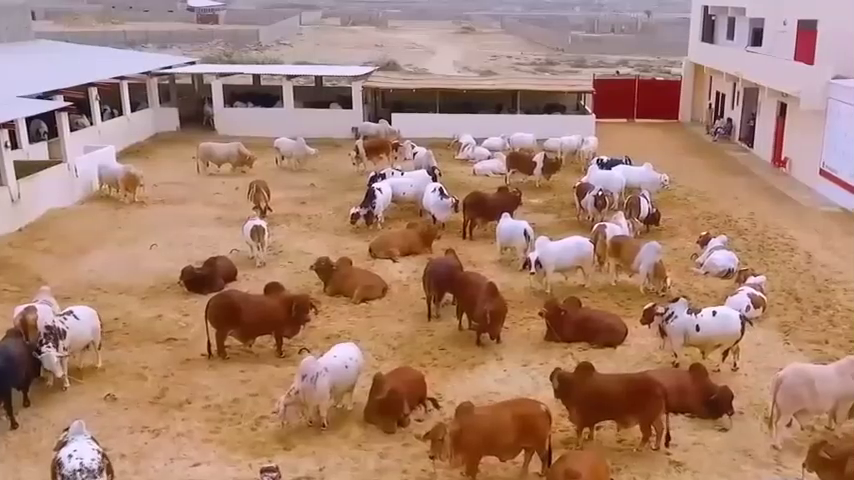bo: (412, 385, 558, 479), (537, 353, 672, 447), (269, 336, 363, 439), (199, 283, 318, 356), (765, 345, 852, 442), (640, 291, 745, 362), (447, 261, 522, 355), (35, 306, 114, 389), (648, 355, 735, 427), (539, 292, 635, 357), (363, 352, 428, 445), (595, 224, 672, 300), (517, 227, 597, 297), (310, 250, 401, 307), (3, 315, 44, 436), (47, 421, 130, 480), (380, 152, 446, 213), (457, 175, 519, 239), (530, 436, 619, 480), (171, 246, 241, 301), (343, 170, 396, 238), (422, 236, 462, 322), (13, 272, 64, 339), (500, 142, 567, 191), (368, 217, 439, 263), (90, 150, 151, 199), (613, 156, 672, 206), (684, 222, 737, 277), (398, 129, 446, 185), (573, 154, 631, 199), (419, 177, 461, 238), (192, 135, 258, 173), (724, 261, 766, 319), (269, 128, 323, 173), (565, 170, 607, 227), (240, 166, 282, 222), (239, 211, 275, 275), (343, 128, 395, 172), (617, 183, 667, 228), (802, 436, 854, 478), (587, 206, 628, 254), (490, 210, 530, 259), (349, 110, 400, 141), (465, 146, 505, 183), (545, 120, 580, 160), (574, 124, 599, 166), (458, 135, 493, 163), (502, 122, 531, 151), (56, 100, 88, 126), (27, 116, 57, 143), (478, 122, 503, 153), (449, 123, 471, 154)
